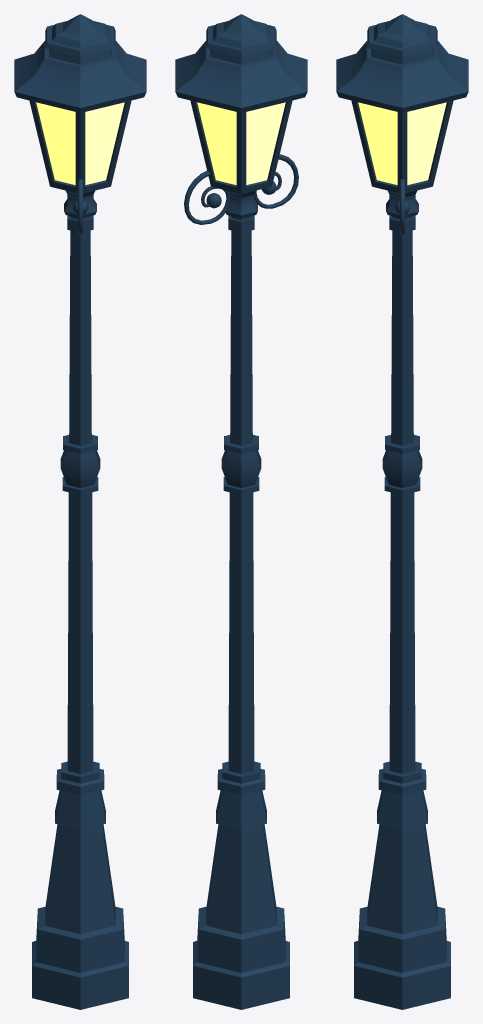
Rendered from Laterne.V1.fbx.
3 renders of one model, left to right at view 1: azimuth 90°, elevation 25°; view 2: azimuth 210°, elevation 25°; view 3: azimuth 270°, elevation 25°, orthographic.
Visible parts, largest first — view 1: V1Laterne; view 2: V1Laterne, V1Laterne.003, V1Laterne.004; view 3: V1Laterne.
Boxes of the visible parts, left/top/right/bottom form: V1Laterne: left=14, top=14, right=146, bottom=1009; V1Laterne: left=175, top=14, right=307, bottom=1009; V1Laterne.003: left=184, top=171, right=230, bottom=224; V1Laterne.004: left=254, top=154, right=298, bottom=208; V1Laterne: left=336, top=14, right=468, bottom=1009.
Size of the model in its own units: 36.43 by 256 by 31.55.
